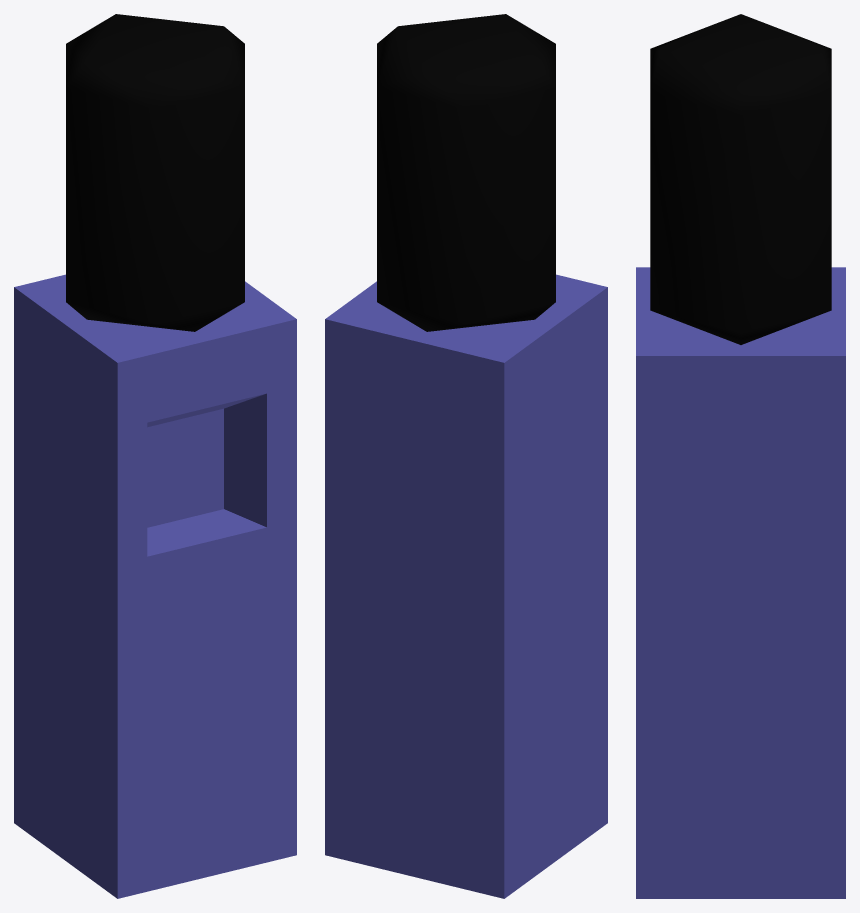
File: WaterCooler.fbx
3 views of the same model, side by side, from view 1: azimuth 30°, elevation 25°; view 2: azimuth 150°, elevation 25°; view 3: azimuth 270°, elevation 25° (orthographic).
Parts seen in each view (by area): view 1: WaterCooler; view 2: WaterCooler; view 3: WaterCooler.
Part boxes in pixels (x1,y1,x2,y2): WaterCooler: [14, 14, 296, 898]; WaterCooler: [325, 14, 607, 898]; WaterCooler: [636, 14, 845, 898].
Size of the model in its own units: 0.5127 by 2.18 by 0.5127.
